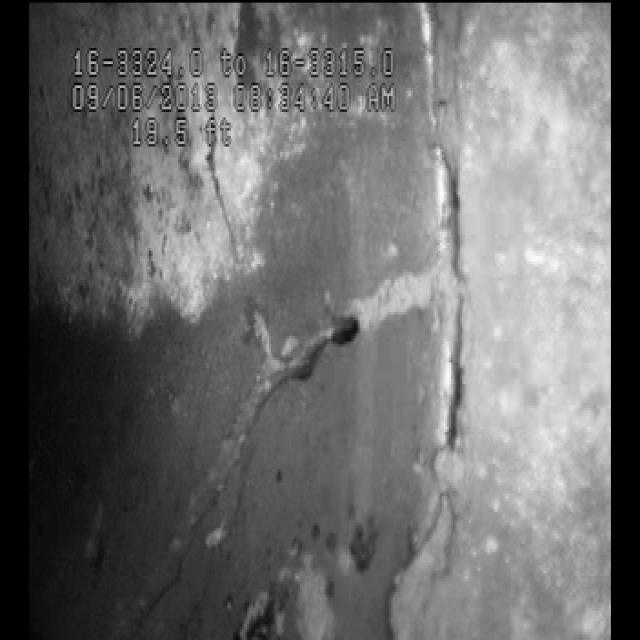Crack: (172, 238, 434, 542)
